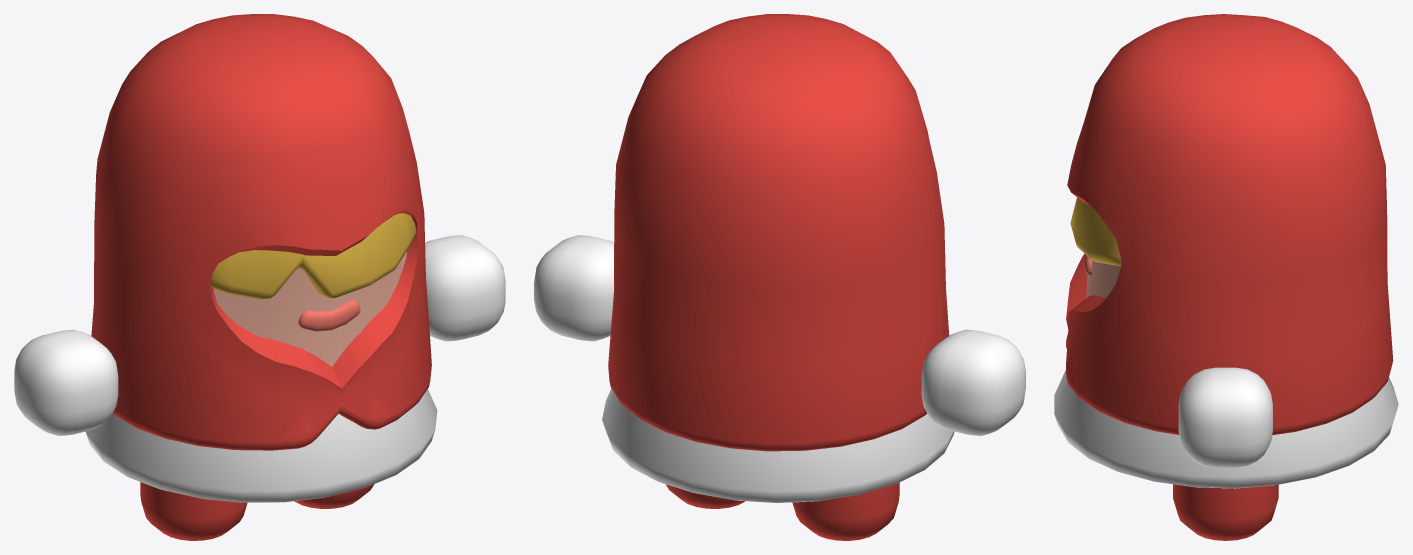
Rendered from Little_RedHood.fbx.
3 renders of one model, left to right at view 1: azimuth 30°, elevation 25°; view 2: azimuth 150°, elevation 25°; view 3: azimuth 270°, elevation 25°, orthographic. The views are drawn at different scales.
Visible parts, largest first — view 1: Little_RedHood; view 2: Little_RedHood; view 3: Little_RedHood.
Boxes of the visible parts, box(x1,y1,x2,y2) form: Little_RedHood: box(14, 14, 505, 540); Little_RedHood: box(534, 14, 1025, 540); Little_RedHood: box(1054, 14, 1398, 540).
Size of the model in its own units: 185 by 180 by 121.
